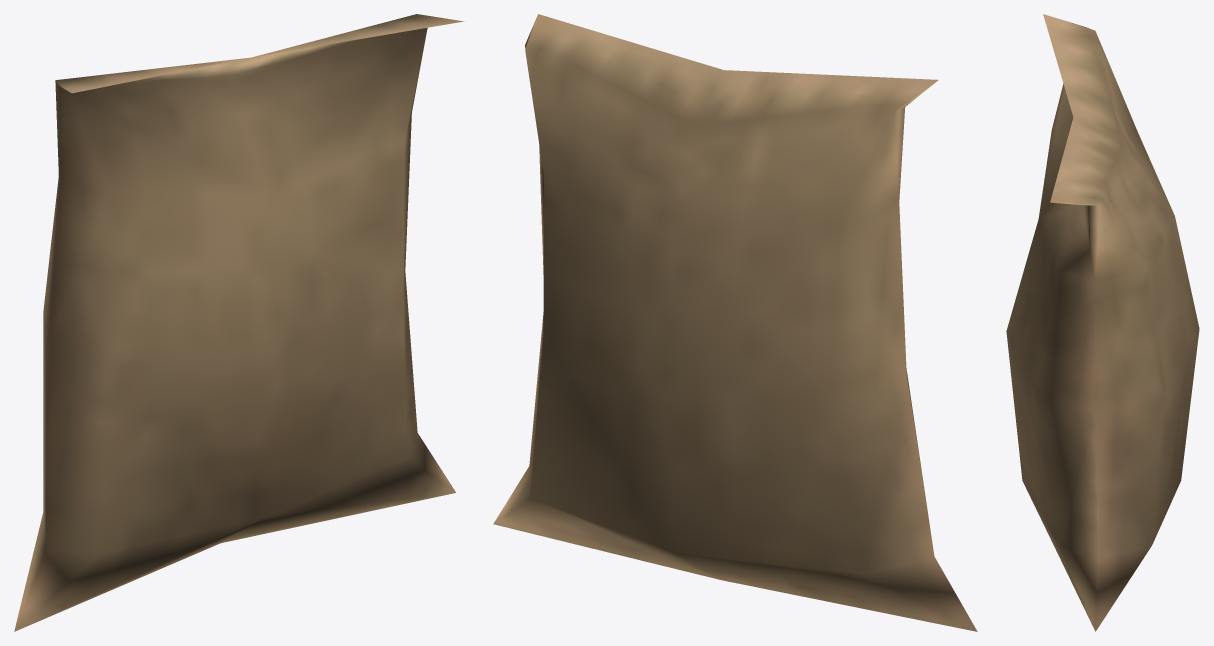
File: objects_un_t03gunnysack02.gltf
The picture shows the model from 3 angles, left to right: view 1: azimuth 30°, elevation 25°; view 2: azimuth 150°, elevation 25°; view 3: azimuth 270°, elevation 25°; orthographic projection. The views are drawn at different scales.
Visible parts, largest first — view 1: objects_un_t03gunnysack02_mesh_shape:objects_un_t03farmtools; view 2: objects_un_t03gunnysack02_mesh_shape:objects_un_t03farmtools; view 3: objects_un_t03gunnysack02_mesh_shape:objects_un_t03farmtools.
Part boxes in pixels (x1,y1,x2,y2): objects_un_t03gunnysack02_mesh_shape:objects_un_t03farmtools: (14, 14, 464, 631); objects_un_t03gunnysack02_mesh_shape:objects_un_t03farmtools: (493, 14, 977, 631); objects_un_t03gunnysack02_mesh_shape:objects_un_t03farmtools: (1006, 14, 1199, 631).
Size of what is drawn, in the model's own units: 0.8066 by 0.8874 by 0.3419.
1 material, 1 textured.
